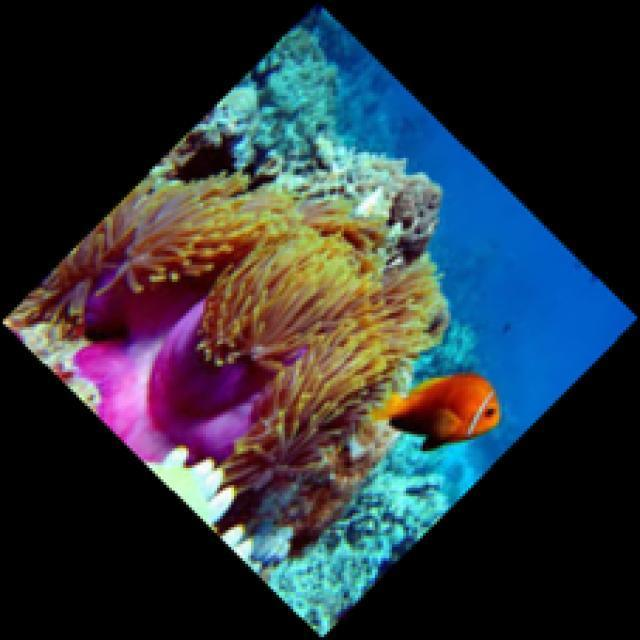Bleached: (143, 446, 263, 572)
Healthy: (55, 177, 445, 496)
